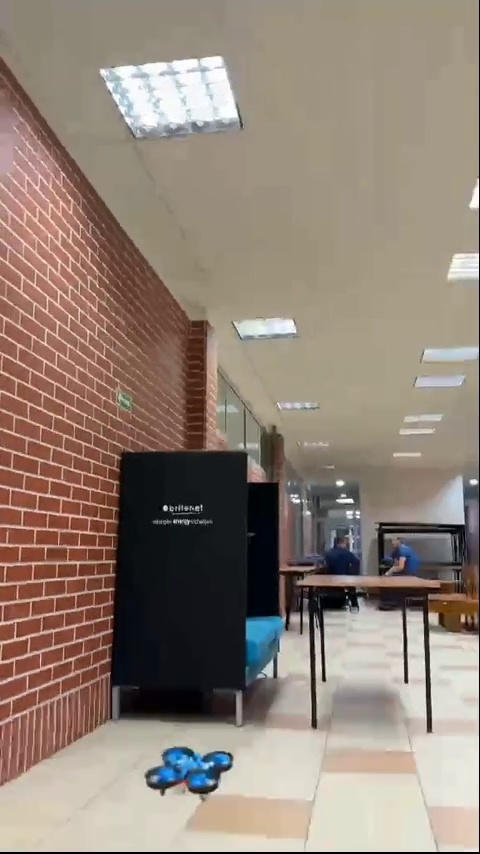drone: (148, 749, 232, 792)
no vest: (317, 531, 372, 577), (382, 537, 429, 584)
